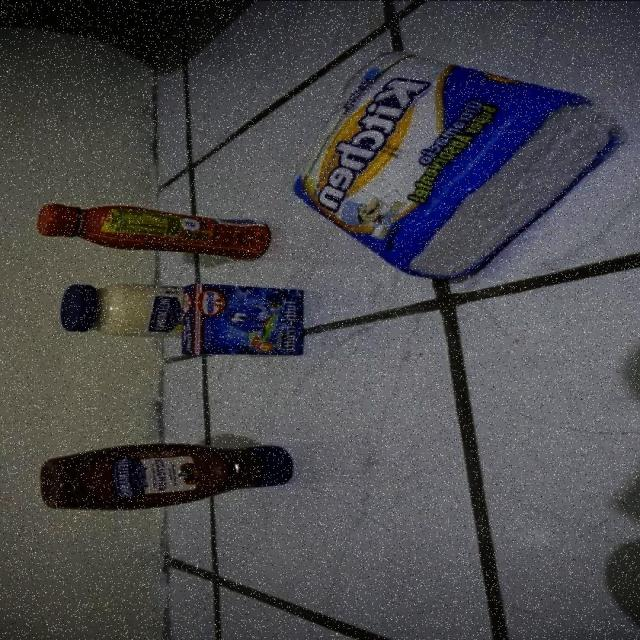ChocolateMilk: (35, 201, 271, 261)
Gelatine: (180, 283, 305, 356)
Ketchup: (40, 441, 295, 512)
Mayonnaise: (60, 282, 182, 336)
Napkin: (294, 52, 625, 279)
